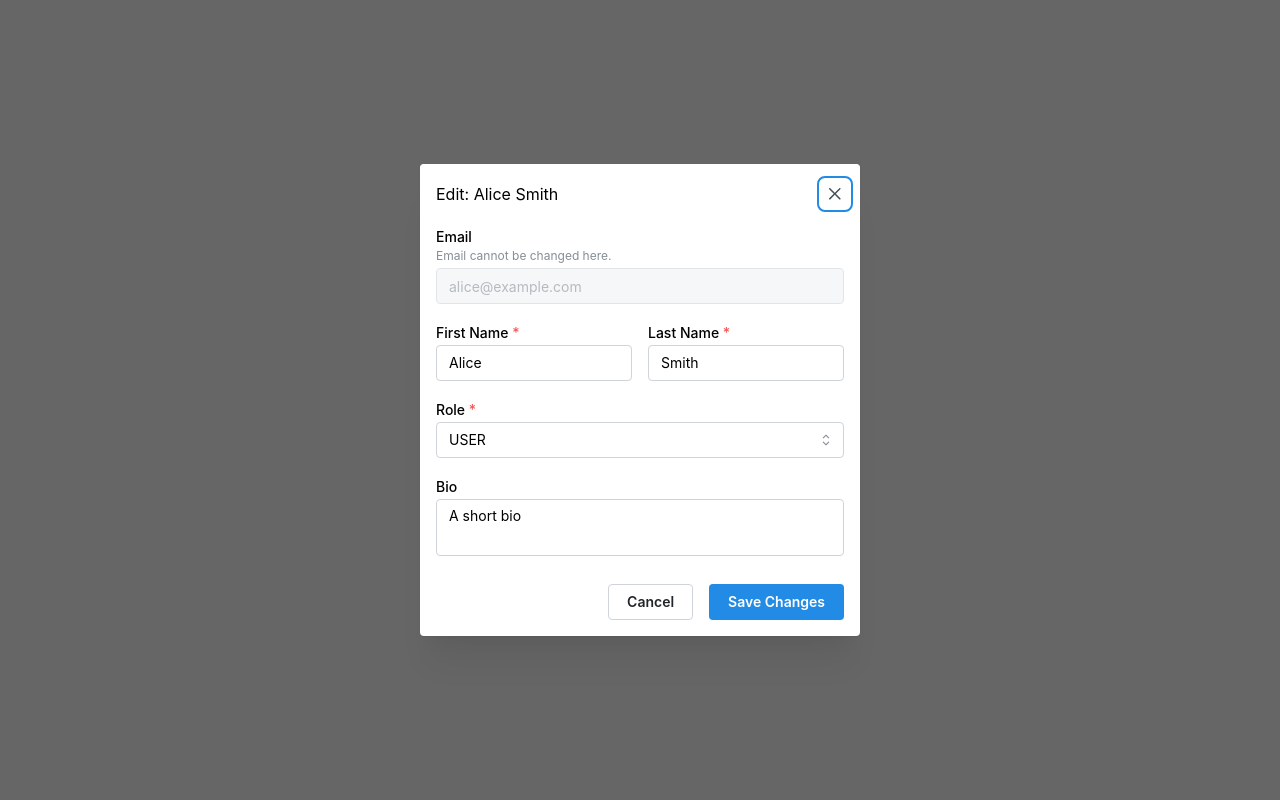
EditUserModal › filters role options based on actor role
// Click the Role select to open the dropdown
Click the field labelled "Role *" at (640,440), box x1=436 y1=422 x2=844 y2=458
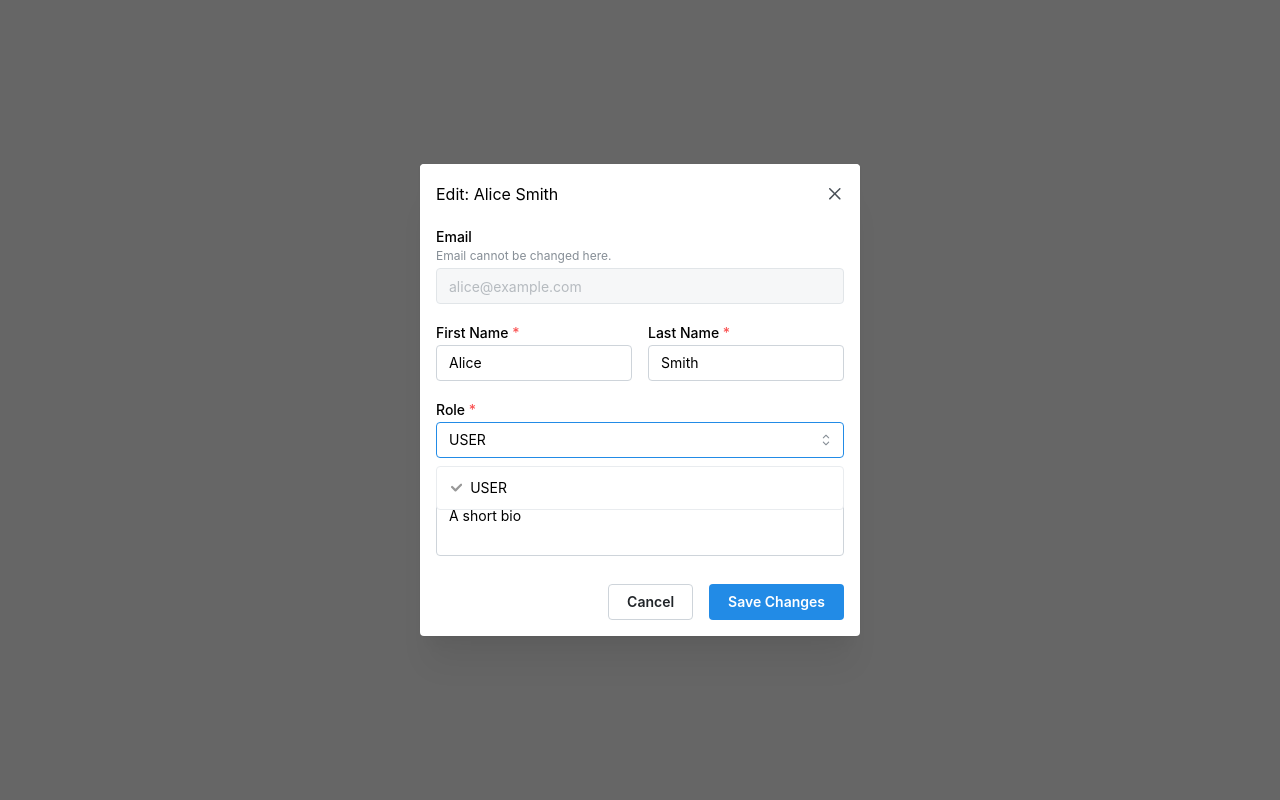
Expected: the number of options is 1, x1=451 y1=479 x2=507 y2=496
Expected: the option reads "USER", x1=451 y1=479 x2=507 y2=496
